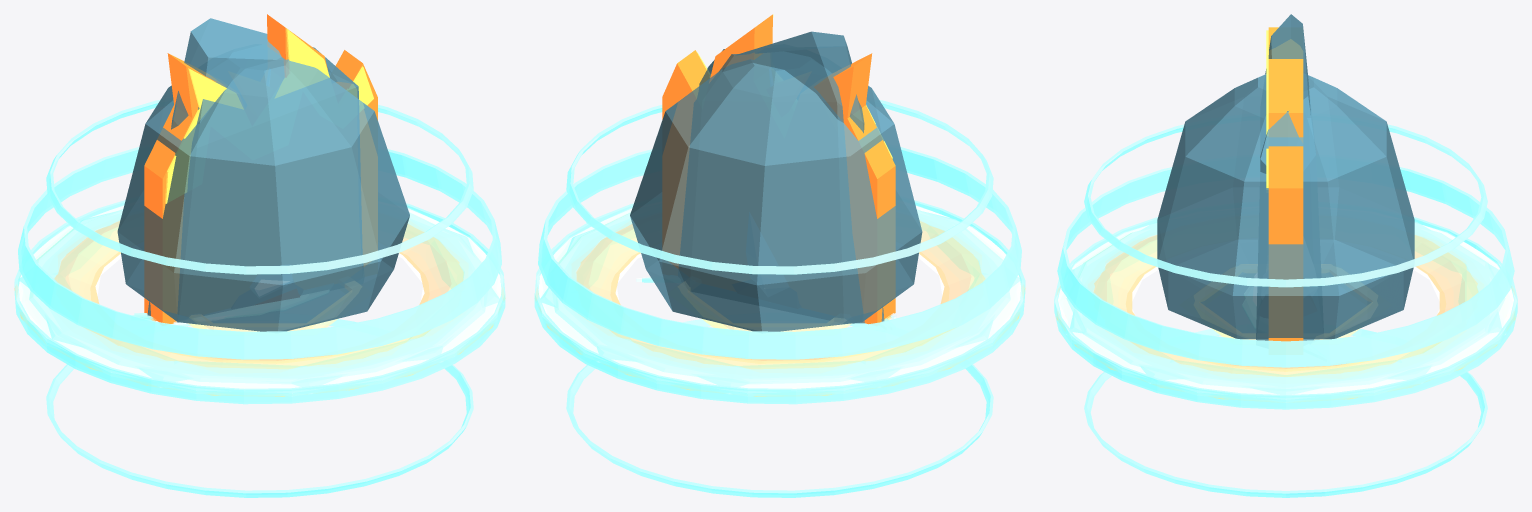
The model's file is ReworkVFX.fbx.
The picture shows the model from 3 angles, left to right: view 1: azimuth 30°, elevation 25°; view 2: azimuth 150°, elevation 25°; view 3: azimuth 270°, elevation 25°; orthographic projection. The views are drawn at different scales.
Visible parts, largest first — view 1: FreezeShell, FrostWallPlate, ReconSpike_Energy, FrostBurstRim_Energy, FlameWallSegment, HealZonePulse_Energy, RecallPhaseRim_Energy, ReconEquator_Energy, CrashPressureRing_Energy, ReconUpper_Energy, FlameWallCrest_Energy, ReconLower_Energy (+2 smaller); view 2: FreezeShell, FrostWallPlate, ReconSpike_Energy, FlameWallSegment, FrostBurstRim_Energy, HealZonePulse_Energy, RecallPhaseRim_Energy, ReconEquator_Energy, CrashPressureRing_Energy, ReconUpper_Energy, ReconLower_Energy, BarrierHexTile_Energy; view 3: FreezeShell, ReconSpike_Energy, FrostBurstRim_Energy, HealZonePulse_Energy, FlameWallSegment, RecallPhaseRim_Energy, ReconEquator_Energy, FrostWallPlate, CrashPressureRing_Energy, ReconUpper_Energy, ReconLower_Energy, BarrierHexTile_Energy.
Part boxes in pixels (x1=…): FreezeShell: x1=117, y1=45, x2=409, y2=331; FrostWallPlate: x1=147, y1=18, x2=362, y2=322; ReconSpike_Energy: x1=18, y1=147, x2=501, y2=359; FrostBurstRim_Energy: x1=16, y1=205, x2=503, y2=393; FlameWallSegment: x1=144, y1=14, x2=377, y2=323; HealZonePulse_Energy: x1=16, y1=209, x2=503, y2=396; RecallPhaseRim_Energy: x1=16, y1=210, x2=504, y2=394; ReconEquator_Energy: x1=14, y1=200, x2=505, y2=404; CrashPressureRing_Energy: x1=14, y1=221, x2=505, y2=396; ReconUpper_Energy: x1=46, y1=99, x2=473, y2=274; FlameWallCrest_Energy: x1=165, y1=28, x2=373, y2=203; ReconLower_Energy: x1=46, y1=319, x2=473, y2=497; FreezeShell: x1=630, y1=52, x2=922, y2=331; FrostWallPlate: x1=679, y1=31, x2=884, y2=323; ReconSpike_Energy: x1=538, y1=147, x2=1021, y2=359; FlameWallSegment: x1=662, y1=14, x2=895, y2=324; FrostBurstRim_Energy: x1=536, y1=205, x2=1023, y2=393; HealZonePulse_Energy: x1=538, y1=209, x2=1023, y2=396; RecallPhaseRim_Energy: x1=535, y1=211, x2=1023, y2=394; ReconEquator_Energy: x1=534, y1=200, x2=1025, y2=404; CrashPressureRing_Energy: x1=535, y1=221, x2=1025, y2=396; ReconUpper_Energy: x1=566, y1=100, x2=993, y2=274; ReconLower_Energy: x1=566, y1=319, x2=993, y2=497; BarrierHexTile_Energy: x1=678, y1=284, x2=851, y2=331; FreezeShell: x1=1157, y1=74, x2=1414, y2=339; ReconSpike_Energy: x1=1057, y1=167, x2=1514, y2=367; FrostBurstRim_Energy: x1=1055, y1=223, x2=1516, y2=399; HealZonePulse_Energy: x1=1055, y1=225, x2=1516, y2=402; FlameWallSegment: x1=1268, y1=27, x2=1303, y2=341; RecallPhaseRim_Energy: x1=1065, y1=221, x2=1506, y2=402; ReconEquator_Energy: x1=1054, y1=217, x2=1517, y2=409; FrostWallPlate: x1=1256, y1=14, x2=1323, y2=340; CrashPressureRing_Energy: x1=1056, y1=235, x2=1515, y2=401; ReconUpper_Energy: x1=1084, y1=124, x2=1487, y2=287; ReconLower_Energy: x1=1084, y1=329, x2=1487, y2=497; BarrierHexTile_Energy: x1=1194, y1=264, x2=1377, y2=340.
Bounding box in the file's own units: 2 × 1.77 × 2.
